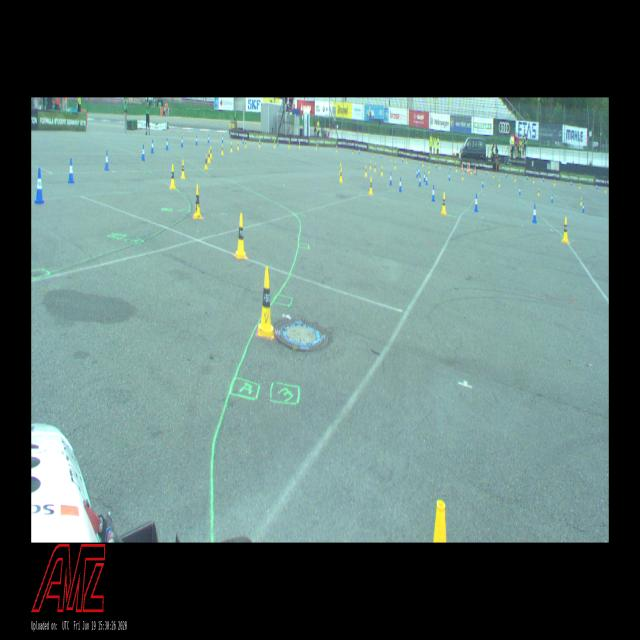blue_cone: (34, 168, 44, 204), (68, 158, 74, 184), (104, 150, 110, 170), (532, 204, 537, 223), (474, 194, 478, 212), (432, 185, 436, 202), (142, 144, 146, 160), (399, 177, 402, 192), (151, 140, 154, 153), (166, 138, 168, 150), (390, 173, 392, 185), (181, 136, 183, 147), (419, 176, 421, 187), (449, 163, 452, 170), (426, 175, 428, 185), (208, 134, 210, 144), (196, 136, 198, 145), (582, 203, 584, 212), (424, 172, 426, 181), (519, 186, 521, 195), (482, 179, 484, 187), (551, 194, 553, 202), (416, 169, 418, 177), (418, 167, 420, 175), (222, 135, 224, 143), (242, 136, 244, 144), (448, 173, 450, 180), (277, 139, 279, 146), (380, 151, 382, 158), (464, 165, 466, 172), (505, 171, 507, 178), (526, 173, 528, 180), (317, 142, 319, 148), (402, 155, 403, 163), (359, 147, 360, 154), (420, 159, 421, 166), (571, 179, 572, 186), (596, 182, 597, 189), (436, 162, 437, 168), (487, 169, 488, 175), (543, 176, 544, 182)
large_orange_cone: (468, 162, 470, 173), (466, 164, 468, 174), (474, 167, 476, 176), (461, 163, 463, 171)
yellow_cone: (258, 267, 274, 338), (234, 213, 247, 259), (193, 184, 202, 218), (562, 217, 569, 243), (170, 164, 176, 189), (441, 193, 446, 215), (181, 160, 185, 179), (369, 177, 373, 195), (204, 153, 208, 170), (340, 168, 342, 182), (208, 150, 210, 164), (210, 146, 212, 159), (365, 166, 367, 177), (222, 144, 224, 155), (230, 142, 232, 152), (237, 141, 239, 150), (381, 166, 383, 175), (374, 163, 376, 172), (245, 139, 247, 148), (288, 140, 290, 149), (578, 181, 580, 190), (580, 197, 582, 205), (428, 166, 430, 174), (394, 161, 396, 169), (604, 186, 606, 194), (514, 174, 516, 182), (492, 171, 494, 179), (390, 154, 392, 162), (538, 188, 540, 195), (462, 173, 464, 180), (554, 179, 556, 186), (470, 168, 472, 175), (352, 148, 354, 155), (340, 163, 341, 174), (370, 161, 371, 169), (259, 140, 260, 148), (299, 141, 300, 149), (316, 142, 317, 150), (499, 180, 500, 187), (274, 141, 275, 148), (456, 165, 457, 172), (533, 177, 534, 184), (336, 145, 337, 152), (406, 157, 407, 164), (422, 160, 423, 167), (439, 162, 440, 169), (372, 152, 373, 158)
